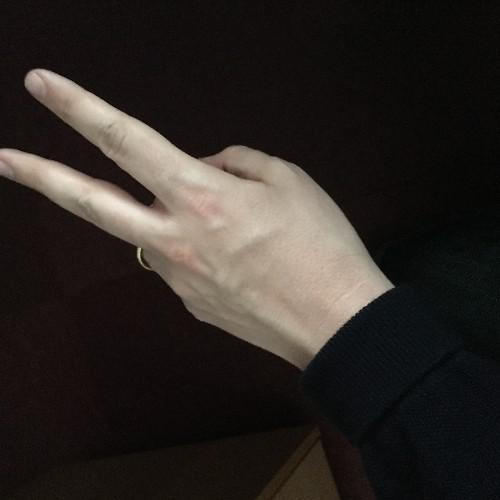scissors: (1, 55, 398, 354)
